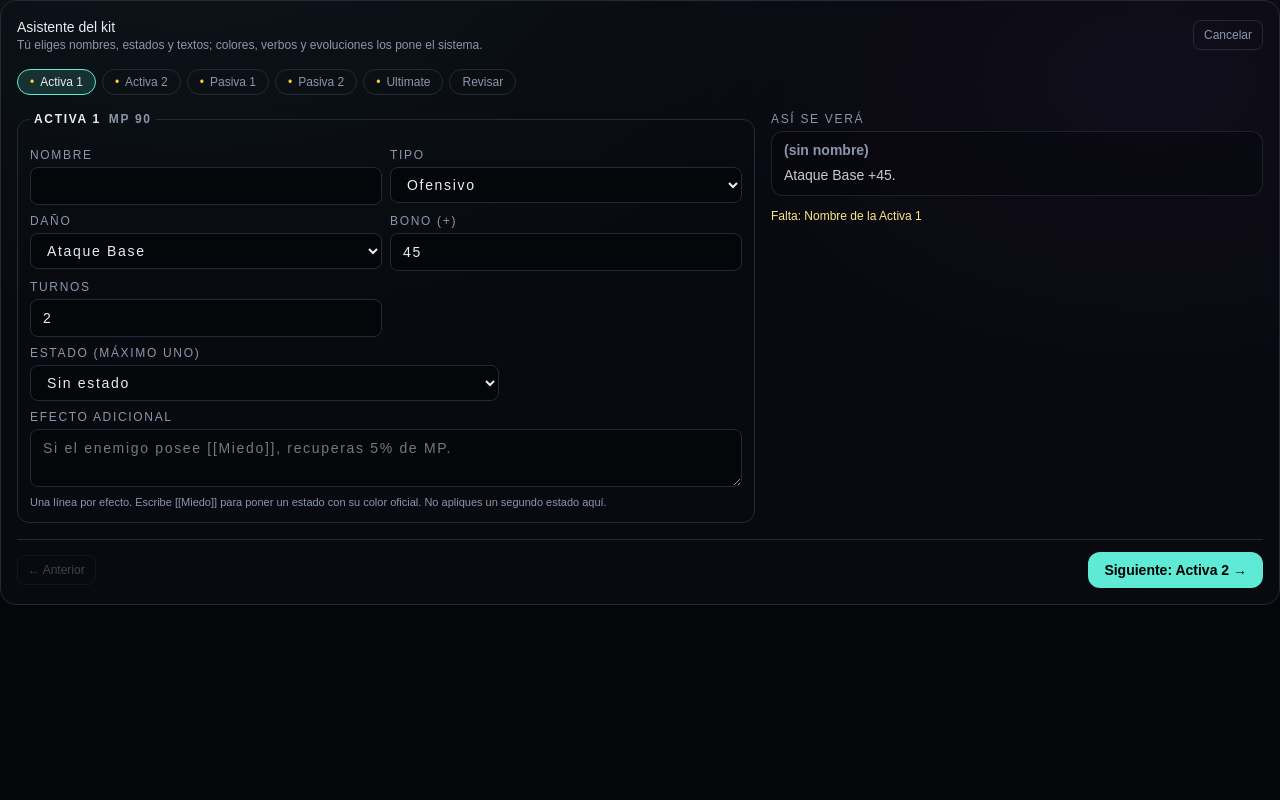
Test: Paso «Habilidades» › en la Ultimate con dado se eligen dados y caras, y el bono desaparece
Click the button "• Ultimate" at (403, 82), box 363,69 -> 444,95
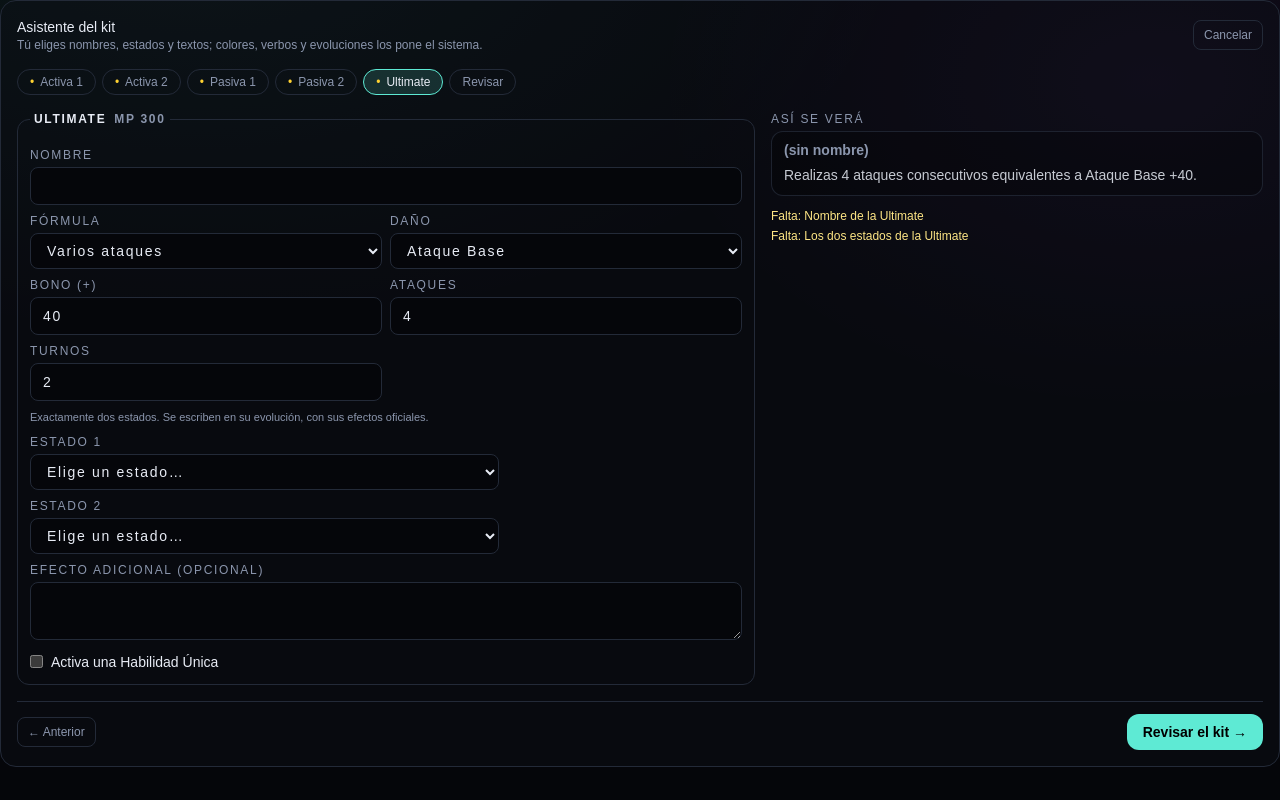
Expected: the field labelled "Dados" is not shown
Select "Dado (X ataques)" in the dropdown labelled "Fórmula" at (206, 251), box 30,233 -> 382,269
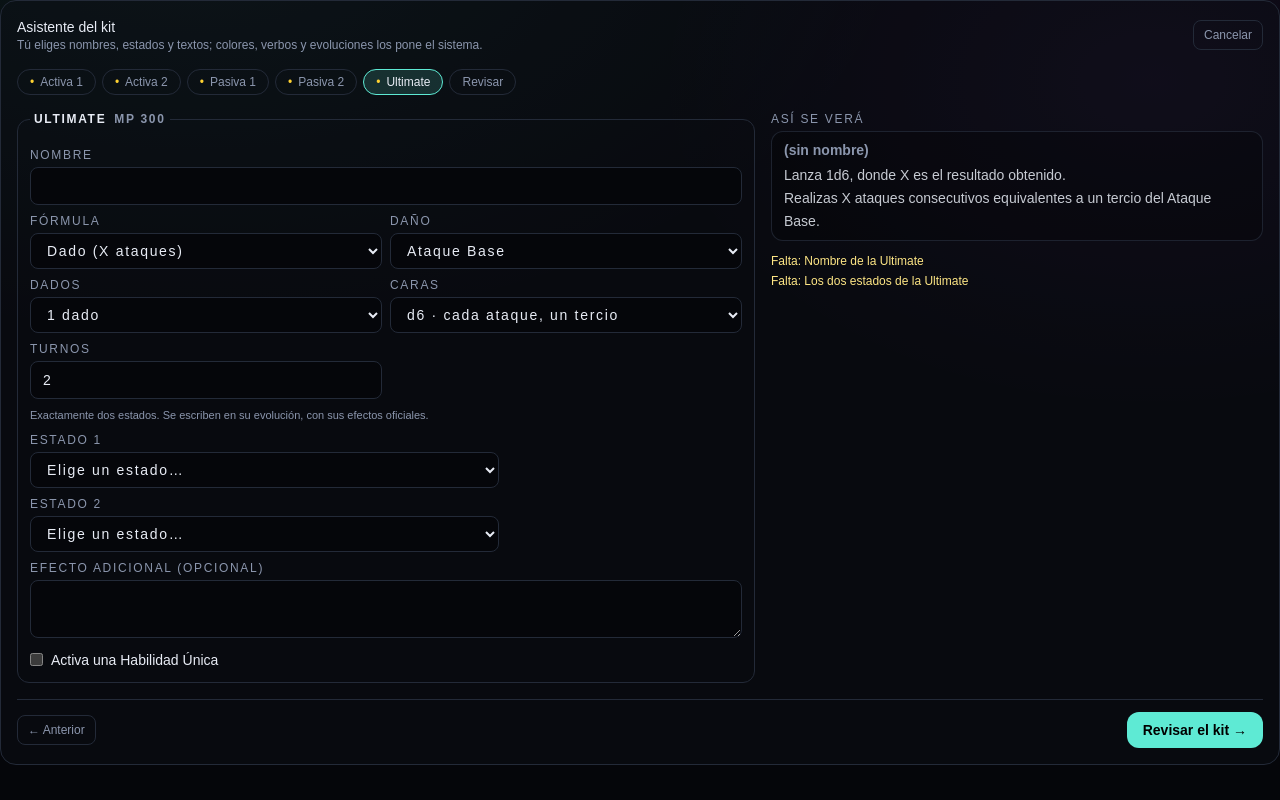
Result: the label labelled "Bono" is gone
Select "2 dados (X = la suma)" in the dropdown labelled "Dados" at (206, 315), box 30,297 -> 382,333
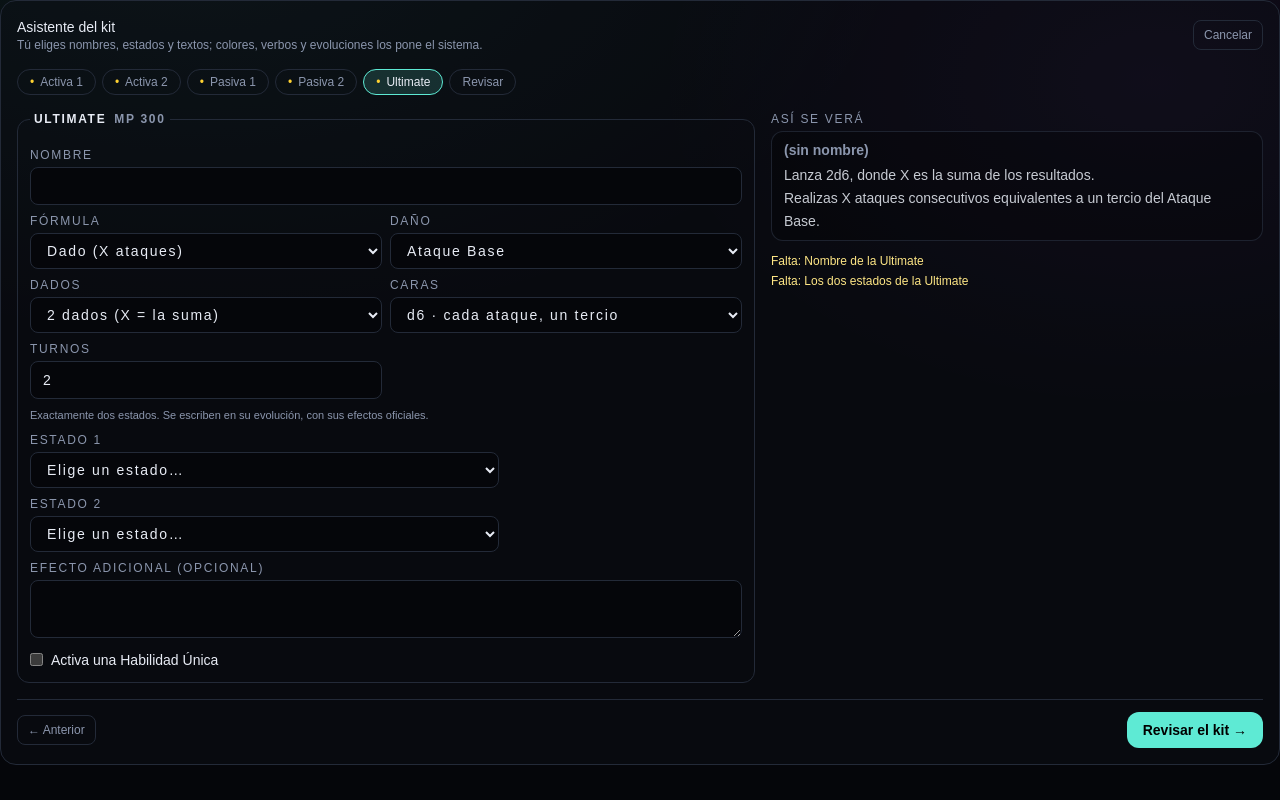
Select "d4 · cada ataque, la mitad" in the dropdown labelled "Caras" at (566, 315), box 390,297 -> 742,333
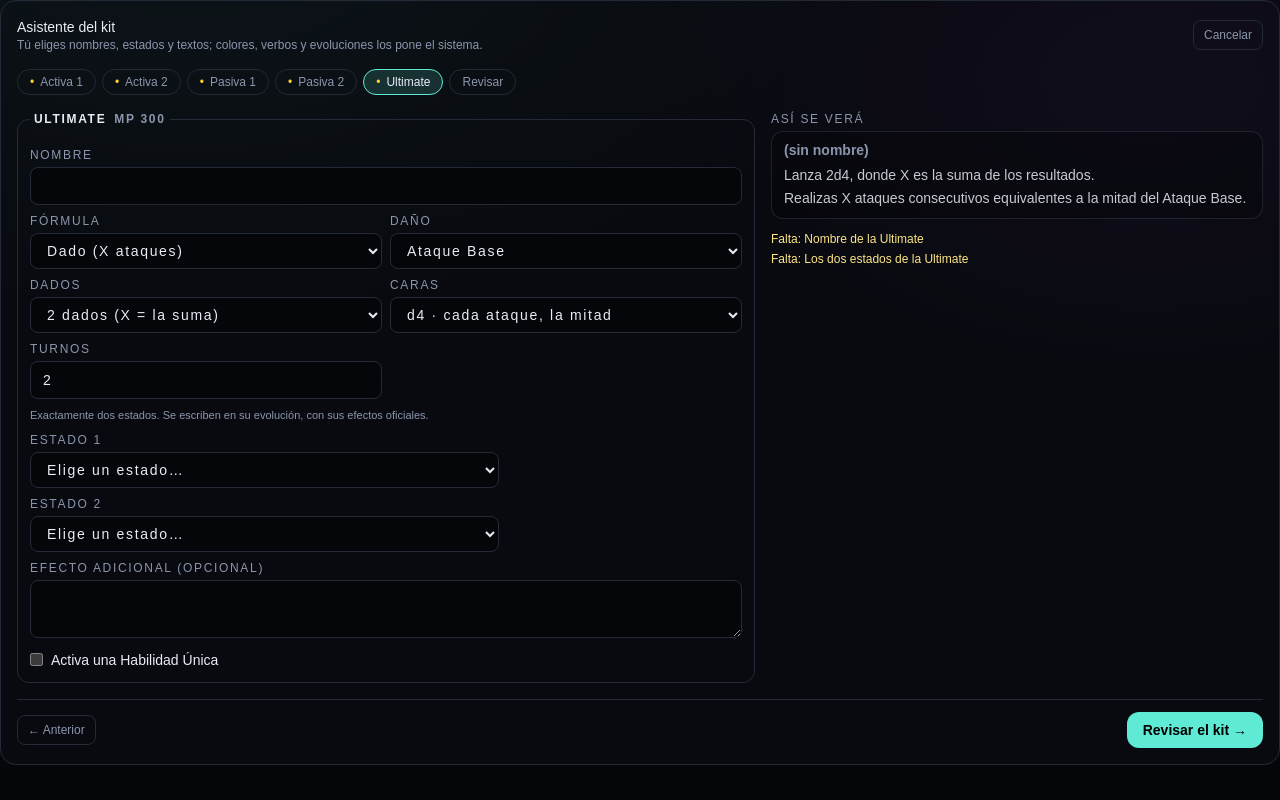
Result: the list with test id "kit-vista-previa" shows "Lanza 2d4, donde X es la suma de los resultados." at 784,167 -> 1094,183
Result: the list with test id "kit-vista-previa" shows "equivalentes a la mitad del Ataque Base." at 784,190 -> 1246,206
